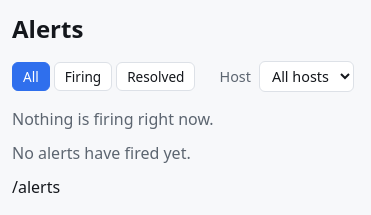
AlertsPage › filters by state and host, keeping the choice in the URL
Click the button "Firing": (83, 76) [54,62,112,91]
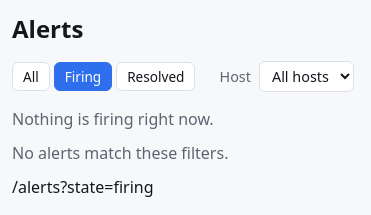
Select "db-1" in the dropdown labelled "Host": (306, 76) [259,61,354,92]
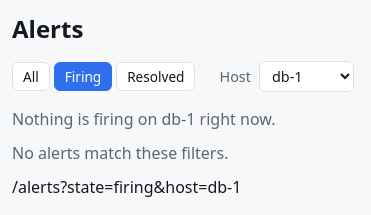
Expected: the text with test id "location" reads "/alerts?state=firing&host=db-1", [12,176,241,198]
Click the button "All": (31, 76) [12,62,50,91]
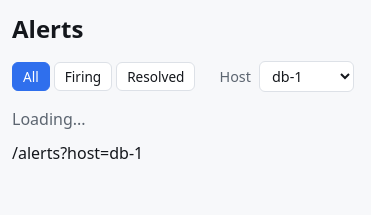
Select "All hosts" in the dropdown labelled "Host": (306, 76) [259,61,354,92]
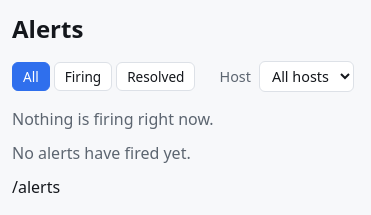
Expected: the text with test id "location" reads "/alerts", [12,176,60,198]
